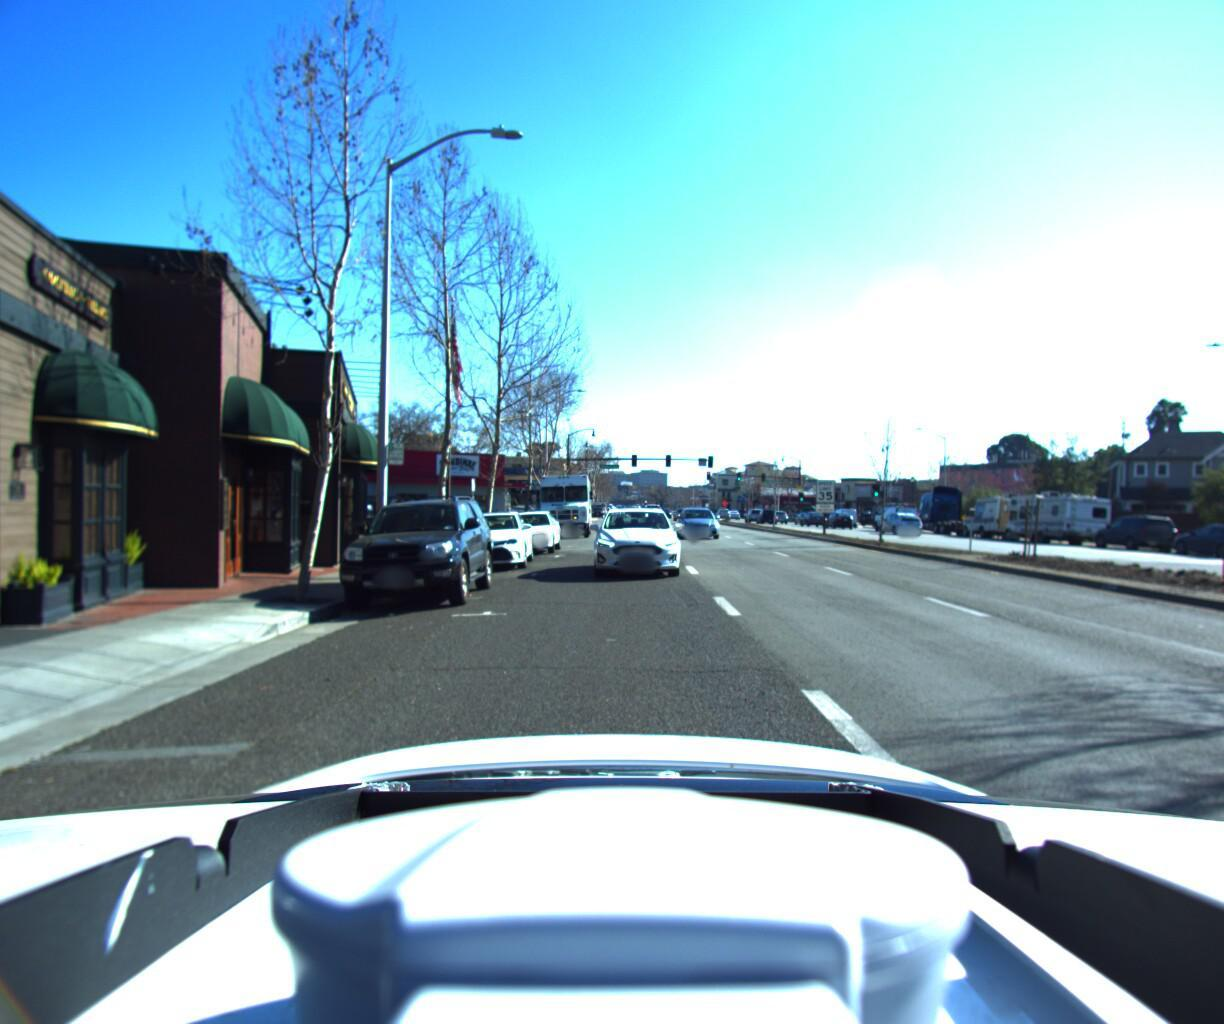car: (319, 484, 492, 622), (582, 505, 678, 585), (442, 504, 535, 574), (1084, 509, 1185, 550), (492, 504, 562, 556), (1160, 517, 1224, 560), (676, 507, 723, 543), (869, 498, 917, 530), (872, 514, 918, 539), (829, 506, 858, 526), (821, 509, 852, 527), (505, 503, 532, 521)
other_vehicle: (996, 484, 1119, 543), (955, 487, 1036, 539)
truck: (530, 473, 592, 538), (906, 481, 982, 533)
